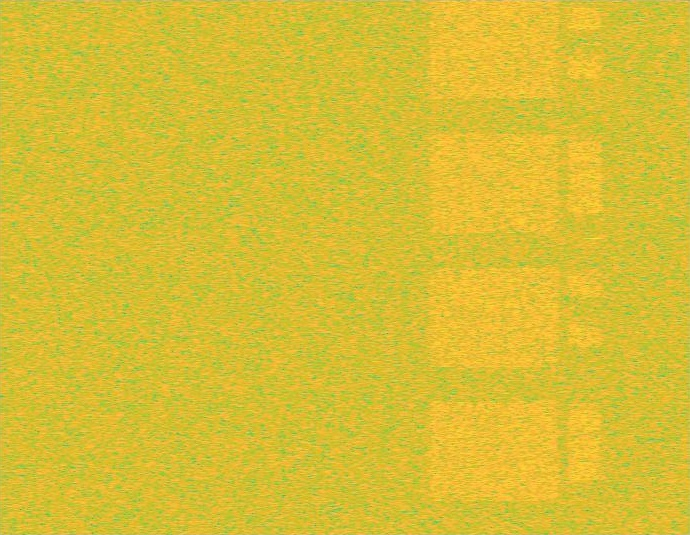5G: (425, 0, 563, 534)
LTE: (568, 0, 602, 534)
Radar: (587, 0, 601, 534)
